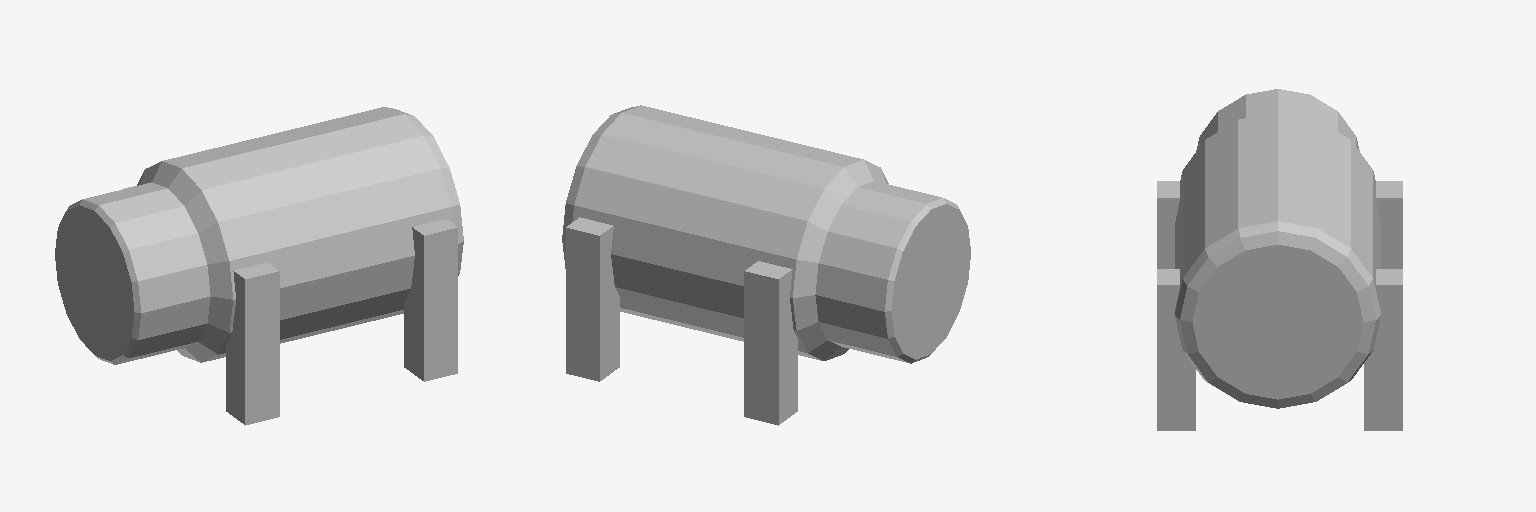
File: LogisticOutMesh.obj
The picture shows the model from 3 angles: view 1: azimuth 30°, elevation 25°; view 2: azimuth 150°, elevation 25°; view 3: azimuth 270°, elevation 25°; orthographic projection.
Visible parts, largest first — view 1: Cylinder.089; view 2: Cylinder.089; view 3: Cylinder.089.
Part boxes in pixels (x1,y1,x2,y2): Cylinder.089: (55, 107, 463, 425); Cylinder.089: (562, 105, 970, 425); Cylinder.089: (1157, 89, 1402, 430).
Size of the model in its own units: 4.65 by 2.92 by 3.06.